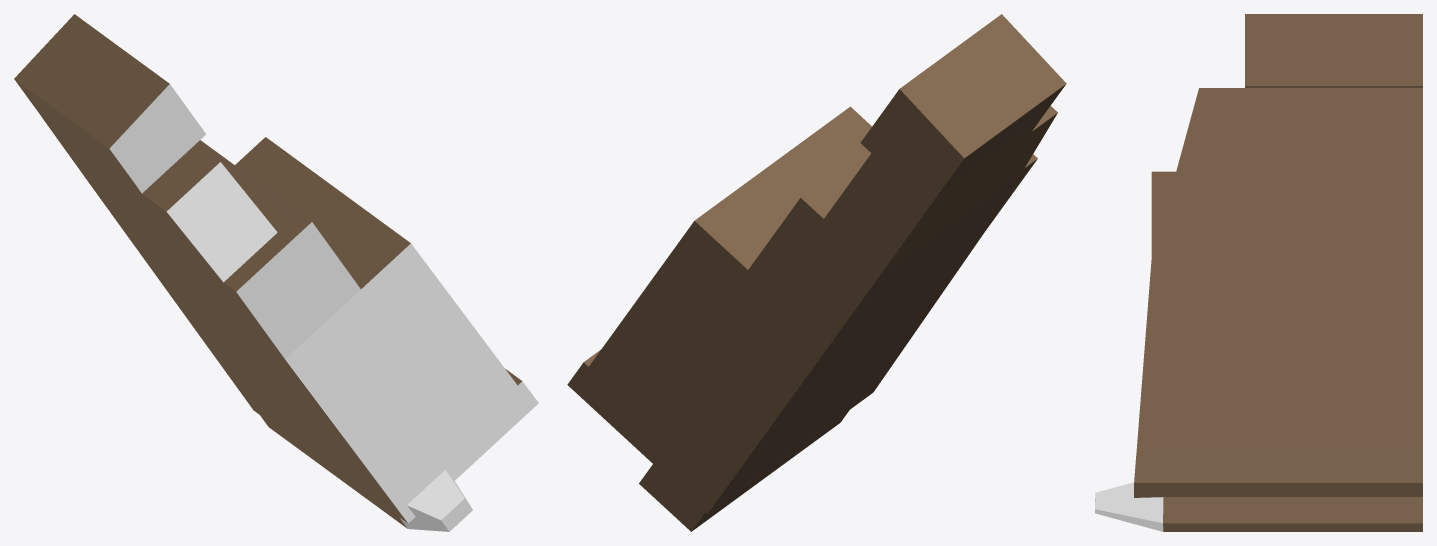
3 renders of one model, left to right at view 1: azimuth 30°, elevation 25°; view 2: azimuth 150°, elevation 25°; view 3: azimuth 270°, elevation 25°, orthographic. The views are drawn at different scales.
Visible parts, largest first — view 1: City_PC-08565; view 2: City_PC-08565; view 3: City_PC-08565.
Part boxes in pixels (box(x1,y1,x2,y2)): City_PC-08565: box(14, 14, 538, 531); City_PC-08565: box(567, 14, 1066, 531); City_PC-08565: box(1095, 14, 1422, 531).
Size of the model in its own units: 1786 by 2123 by 1468.
